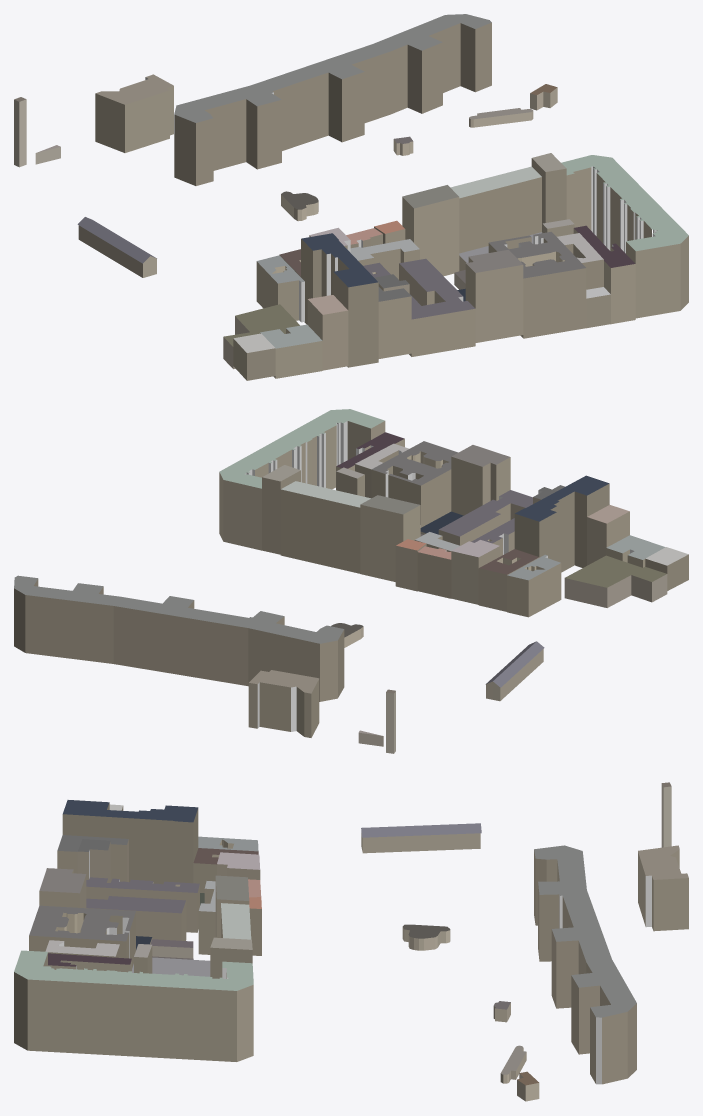
3 renders of one model, top to bottom at view 1: azimuth 30°, elevation 25°; view 2: azimuth 150°, elevation 25°; view 3: azimuth 270°, elevation 25°, orthographic. The views are drawn at different scales.
Visible parts, largest first — view 1: tuile; view 2: tuile; view 3: tuile.
Boxes of the visible parts, x1,y1,x2,y2 form: tuile: (14, 14, 688, 380); tuile: (14, 409, 688, 753); tuile: (14, 782, 688, 1101).
Bounding box in the file's own units: 227 × 34.96 × 242.
